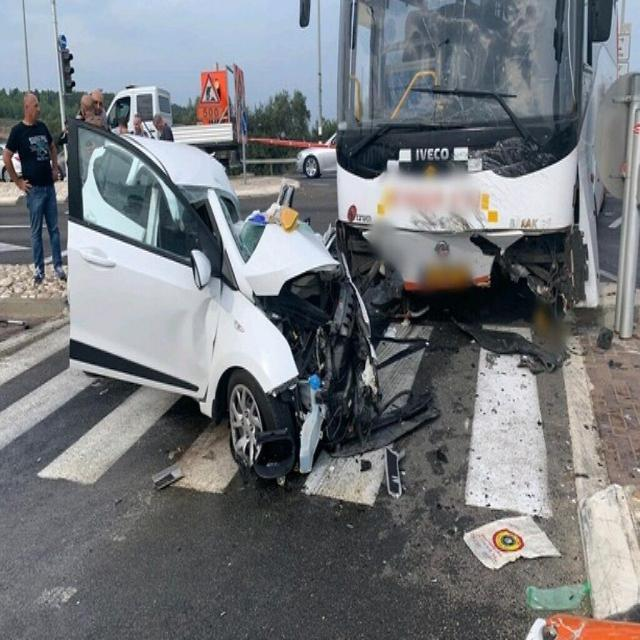accident: (69, 1, 616, 490)
